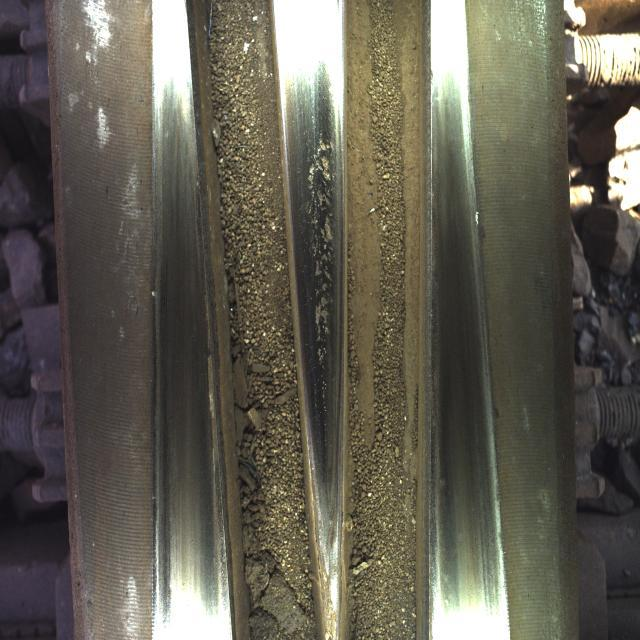scar: (295, 78, 337, 414)
